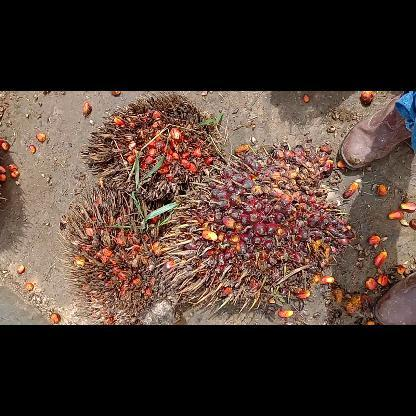TBS masak: (156, 142, 356, 310)
Terlalu masak: (55, 186, 182, 324), (78, 95, 220, 203)
